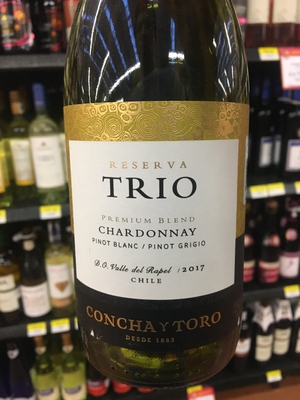trio chardonnay: (58, 10, 257, 388)
